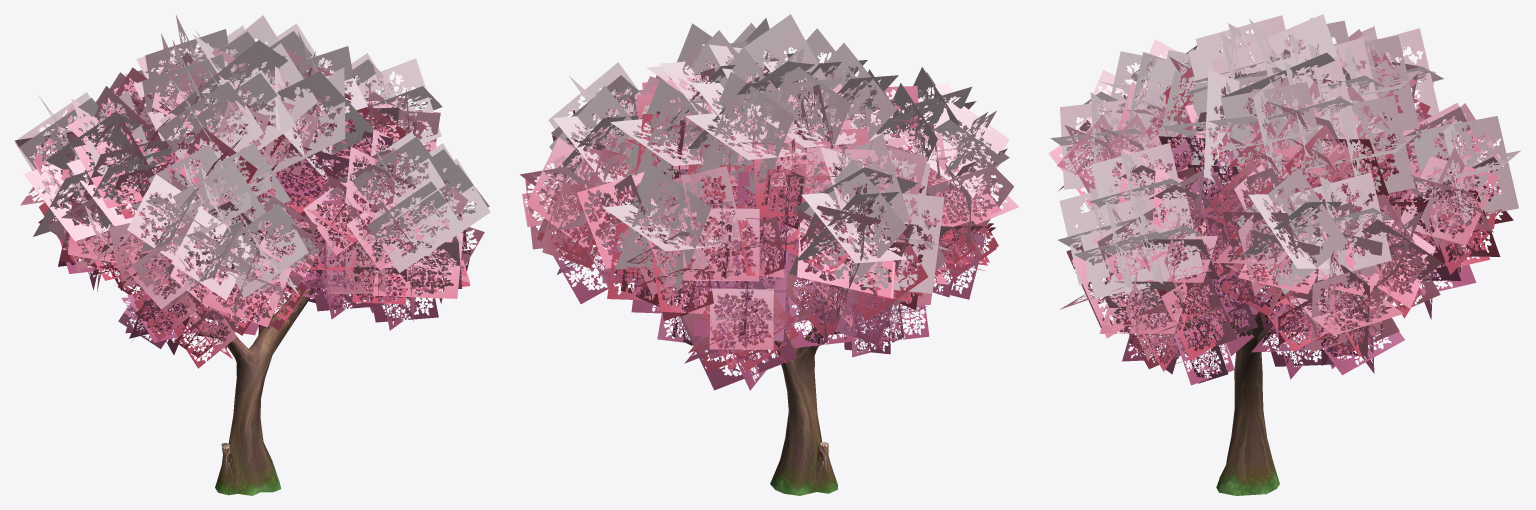
Rendered from sakuraTreeS.fbx.
3 renders of one model, left to right at view 1: azimuth 30°, elevation 25°; view 2: azimuth 150°, elevation 25°; view 3: azimuth 270°, elevation 25°, orthographic. The views are drawn at different scales.
Visible parts, largest first — view 1: stage17_sakuraleaf01_0, stage17_sakuraleaf02_0, stage17_sakura01_0; view 2: stage17_sakuraleaf01_0, stage17_sakuraleaf02_0, stage17_sakura01_0; view 3: stage17_sakuraleaf01_0, stage17_sakuraleaf02_0, stage17_sakura01_0.
Part boxes in pixels (box(x1,y1,x2,y2)): stage17_sakuraleaf01_0: box(14, 25, 470, 368); stage17_sakuraleaf02_0: box(19, 14, 490, 358); stage17_sakura01_0: box(172, 186, 386, 495); stage17_sakuraleaf01_0: box(525, 14, 1018, 390); stage17_sakuraleaf02_0: box(520, 18, 1013, 390); stage17_sakura01_0: box(714, 251, 852, 495); stage17_sakuraleaf01_0: box(1050, 15, 1520, 385); stage17_sakuraleaf02_0: box(1048, 14, 1518, 375); stage17_sakura01_0: box(1184, 272, 1296, 495).
Size of the model in its own units: 7.56 by 8.07 by 7.36.
Materials: 2 (2 with a texture image).
